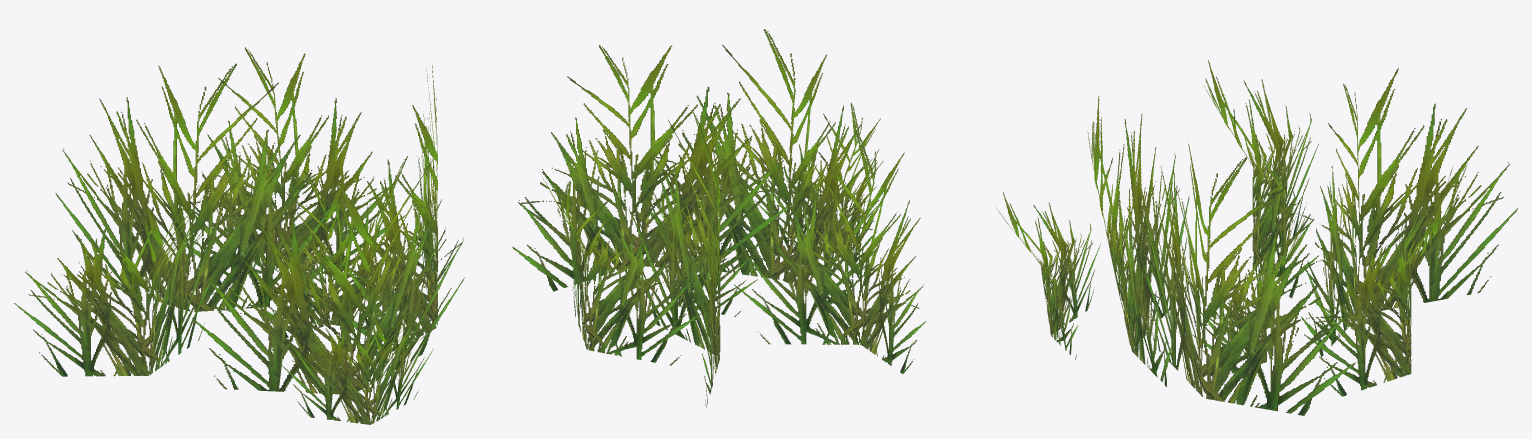
The model's file is obj_macoprgr3.glb.
3 renders of one model, left to right at view 1: azimuth 30°, elevation 25°; view 2: azimuth 150°, elevation 25°; view 3: azimuth 270°, elevation 25°, orthographic. The views are drawn at different scales.
Parts seen in each view (by area): view 1: part_0; view 2: part_0; view 3: part_0.
Boxes of the visible parts, x1=… form: part_0: x1=14, y1=47, x2=464, y2=424; part_0: x1=512, y1=29, x2=926, y2=407; part_0: x1=996, y1=60, x2=1517, y2=415.
Size of the model in its own units: 2.21 by 1.29 by 2.39.
Materials: 1 (1 with a texture image).
